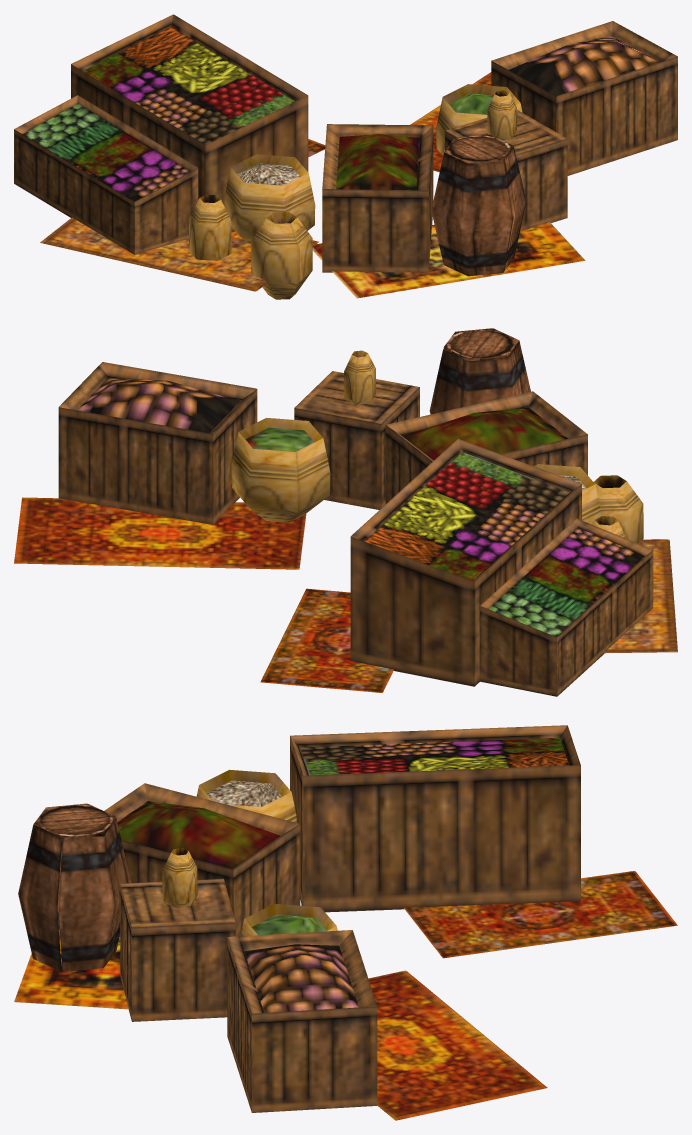
Rendered from treasure_pers_4.dae.
3 views of the same model, one above another, from view 1: azimuth 30°, elevation 25°; view 2: azimuth 150°, elevation 25°; view 3: azimuth 270°, elevation 25° (orthographic). The views are drawn at different scales.
Visible parts, largest first — view 1: treasure3; view 2: treasure3; view 3: treasure3.
Part boxes in pixels (x1,y1,x2,y2): treasure3: (14,14,677,299); treasure3: (14,328,677,696); treasure3: (14,725,677,1120).
Size of the model in its own units: 11.79 by 9.56 by 2.69.
